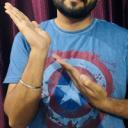hand: (53, 54, 109, 111), (4, 2, 52, 49)
